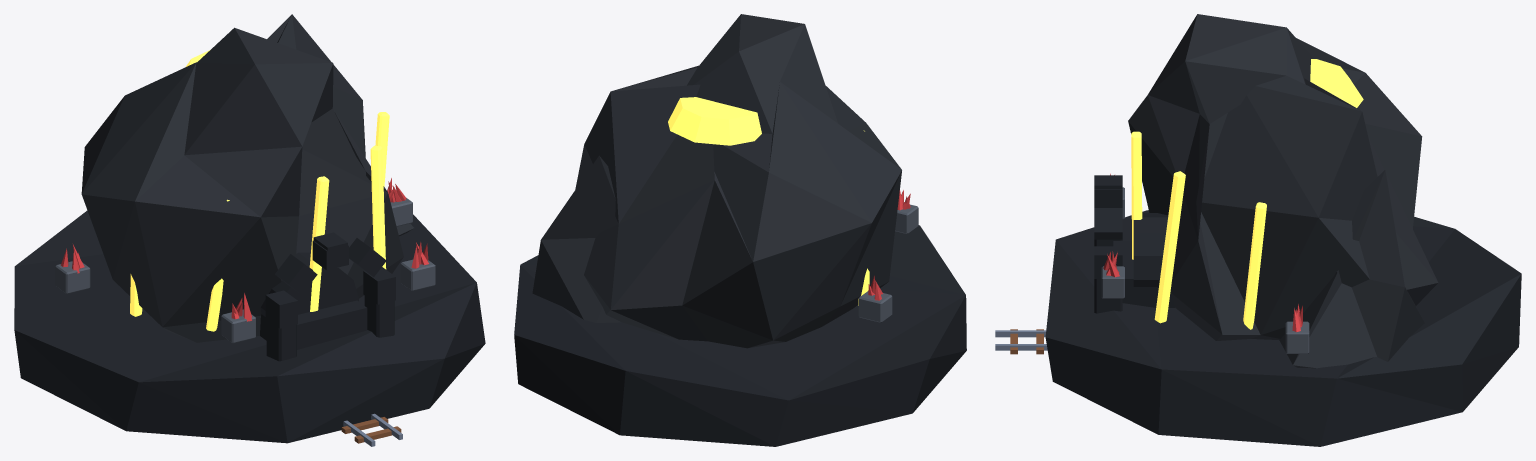
Rendered from SM_Mountain_Ruby.fbx.
The picture shows the model from 3 angles, left to right: view 1: azimuth 30°, elevation 25°; view 2: azimuth 150°, elevation 25°; view 3: azimuth 270°, elevation 25°; orthographic projection. The views are drawn at different scales.
Visible parts, largest first — view 1: SM_Mountain_Ruby; view 2: SM_Mountain_Ruby; view 3: SM_Mountain_Ruby.
Boxes of the visible parts, x1,y1,x2,y2 form: SM_Mountain_Ruby: [14, 14, 485, 446]; SM_Mountain_Ruby: [514, 14, 966, 446]; SM_Mountain_Ruby: [995, 14, 1521, 446].
Bounding box in the file's own units: 10.32 × 7.42 × 11.14.
